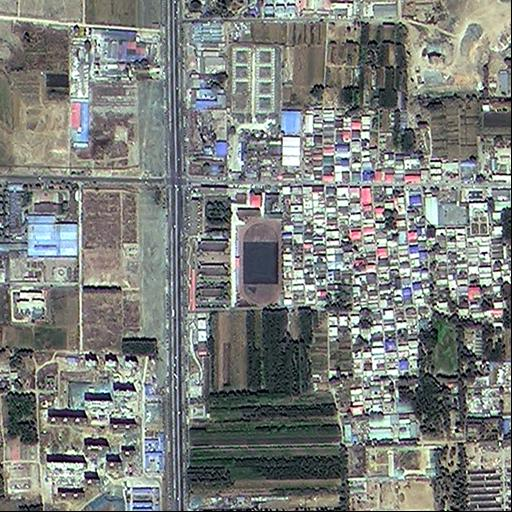school: (190, 183, 286, 308)
